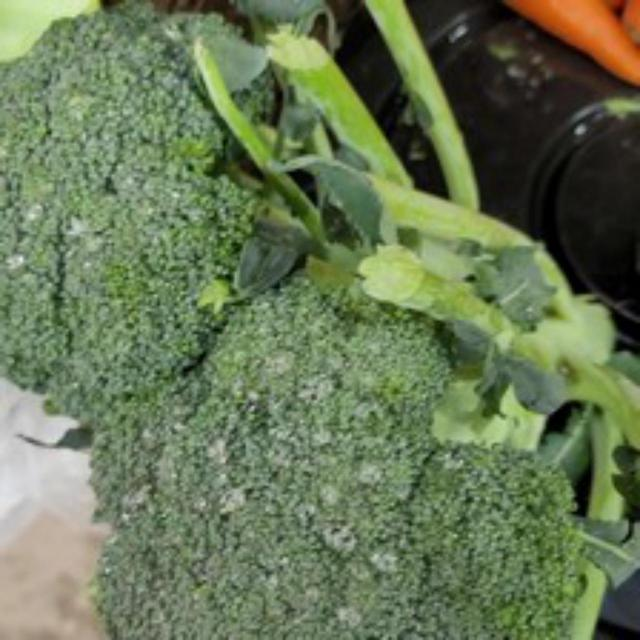broccoli: (89, 254, 608, 637)
